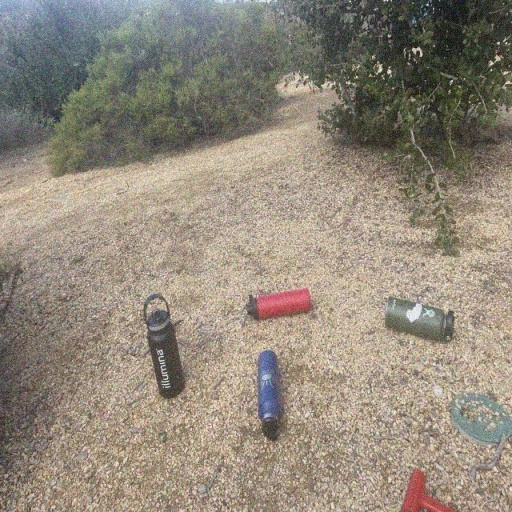bottle: (142, 292, 186, 398), (385, 296, 454, 346), (244, 287, 310, 321), (257, 349, 281, 440)
mallet: (400, 467, 462, 512)
